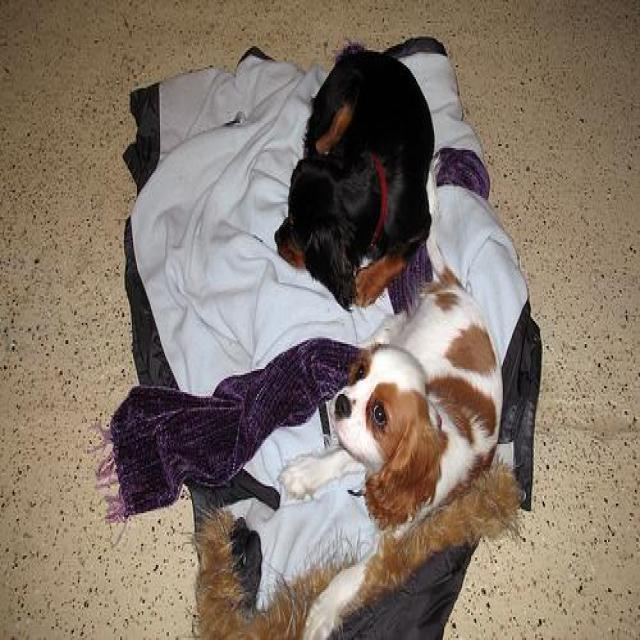blenheim_spaniel: (276, 271, 507, 638)
